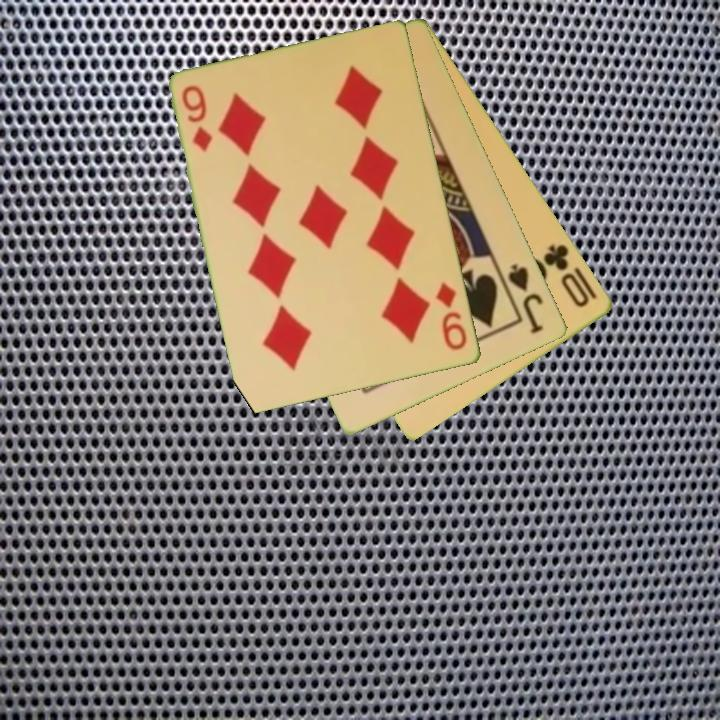10c: (540, 240, 593, 311)
9d: (432, 279, 471, 354), (179, 82, 216, 155)
Js: (505, 260, 547, 337)
